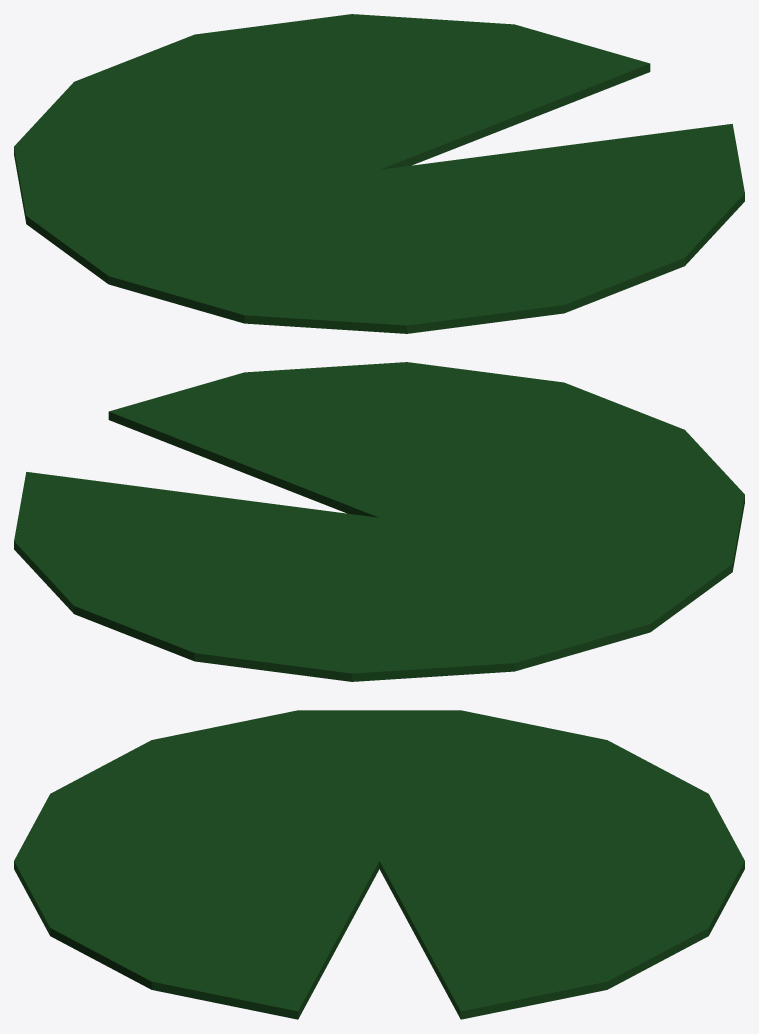
File: Foliage_05.fbx
3 views of the same model, one above another, from view 1: azimuth 30°, elevation 25°; view 2: azimuth 150°, elevation 25°; view 3: azimuth 270°, elevation 25° (orthographic).
Visible parts, largest first — view 1: Foliage_05; view 2: Foliage_05; view 3: Foliage_05.
Part boxes in pixels (x1,y1,x2,y2): Foliage_05: (14,14,744,333); Foliage_05: (14,362,744,681); Foliage_05: (14,710,744,1019).
Bounding box in the file's own units: 35.1 × 0.4503 × 36.
